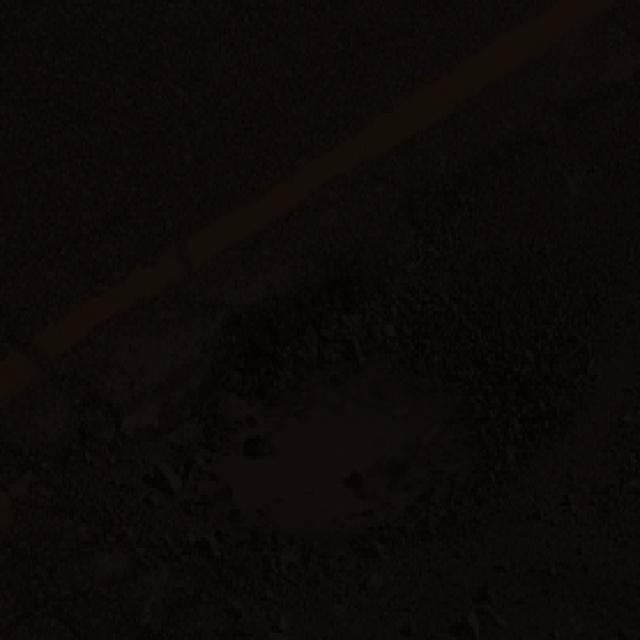Pothole: (191, 276, 526, 565)
